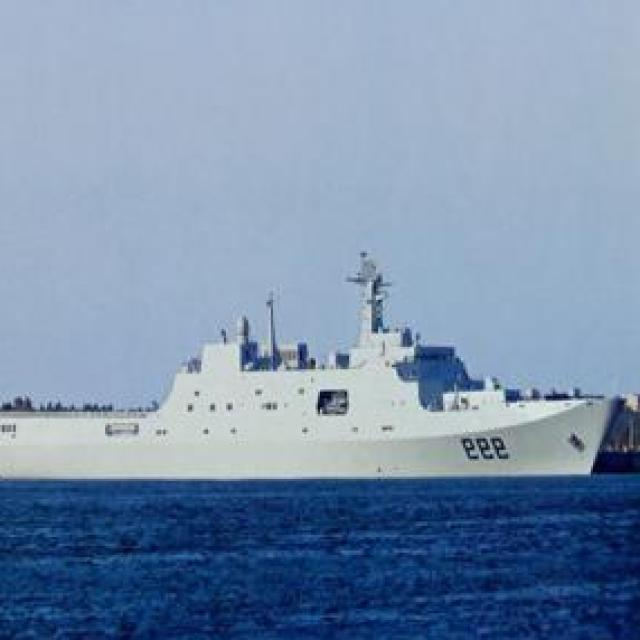navalvessels: (0, 242, 620, 481)
